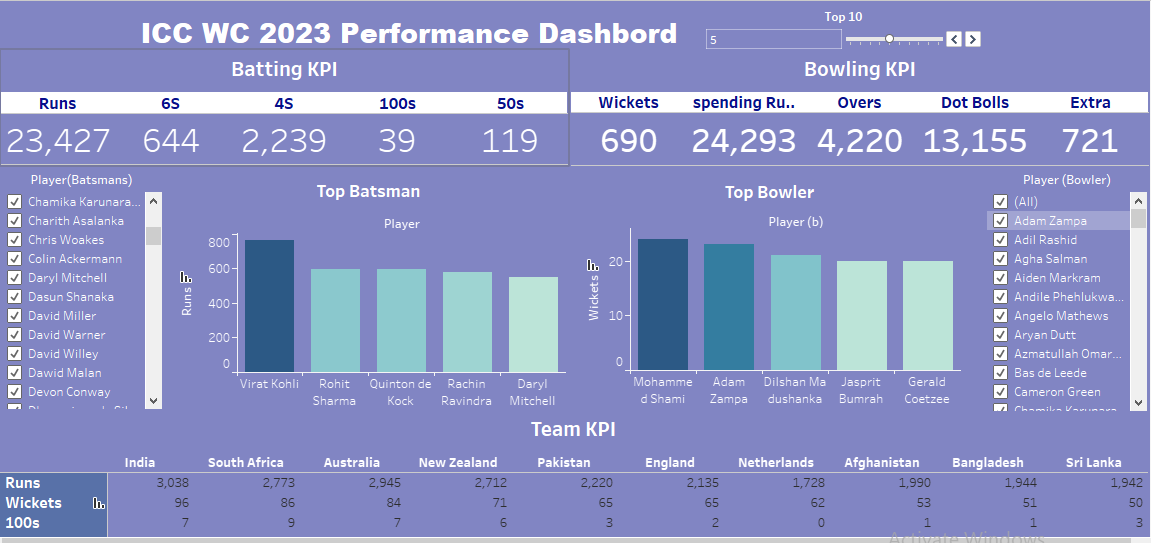

This screenshot's page, from the dashboard's own definition file:
{"tool":"tableau","page":{"name":"Dashboard 1","canvas":[1150,590],"ordinal":0},"visuals":[{"type":"parameter","param":"[Parameters].[Parameter 1]","box":[703,7,281,51]},{"type":"title","box":[8,8,1134,47]},{"type":"worksheet","title":"Batting performance","mark":"Automatic","box":[1,49,567,115]},{"type":"worksheet","title":"Bowling Performance","mark":"Automatic","box":[571,49,578,116]},{"type":"filter","title":"Batting performance","param":"[federated.0gqyr1i1k5vax91dc49bl1tob3qz].[none:player:nk]","box":[1,170,161,238]},{"type":"filter","title":"Bowling Performance","param":"[federated.0gqyr1i1k5vax91dc49bl1tob3qz].[none:player (icc_wc_23_bowl.csv):nk]","box":[987,170,160,240]},{"type":"worksheet","title":"Top Batsman","mark":"Automatic","rows":["runs"],"cols":["player"],"box":[171,174,395,237]},{"type":"worksheet","title":"Top Bowler","mark":"Automatic","rows":["wickets"],"cols":["player (icc_wc_23_bowl.csv)"],"box":[578,175,383,234]}]}

Visuals, with their boxes on the page's 1150x590 design canvas (x1, y1, x2, y2). These are canvas units, not pixel positions in the 1151x543 screenshot, which may show the page scaled, cropped or inside an application window:
parameter: (left=703, top=7, right=984, bottom=58)
title: (left=8, top=8, right=1142, bottom=55)
"Batting performance" worksheet: (left=1, top=49, right=568, bottom=164)
"Bowling Performance" worksheet: (left=571, top=49, right=1149, bottom=165)
"Batting performance" filter: (left=1, top=170, right=162, bottom=408)
"Bowling Performance" filter: (left=987, top=170, right=1147, bottom=410)
"Top Batsman" worksheet: (left=171, top=174, right=566, bottom=411)
"Top Bowler" worksheet: (left=578, top=175, right=961, bottom=409)
